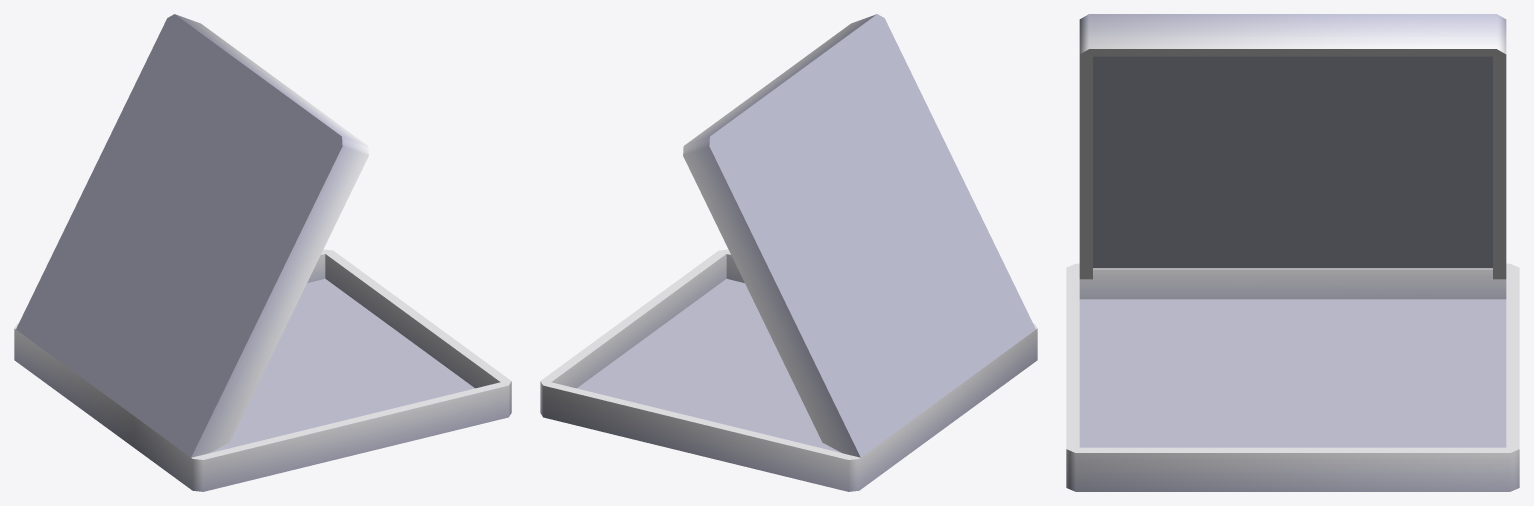
File: cc0-pizza-box-lod0.glb
The picture shows the model from 3 angles, left to right: view 1: azimuth 30°, elevation 25°; view 2: azimuth 150°, elevation 25°; view 3: azimuth 270°, elevation 25°; orthographic projection. The views are drawn at different scales.
Visible parts, largest first — view 1: part_0; view 2: part_0; view 3: part_0.
Part boxes in pixels (<box>): part_0: <box>14,14,511,491</box>; part_0: <box>540,14,1037,491</box>; part_0: <box>1066,14,1519,491</box>.
Size of the model in its own units: 0.9418 by 0.8816 by 0.9518.
1 material, 1 textured.
